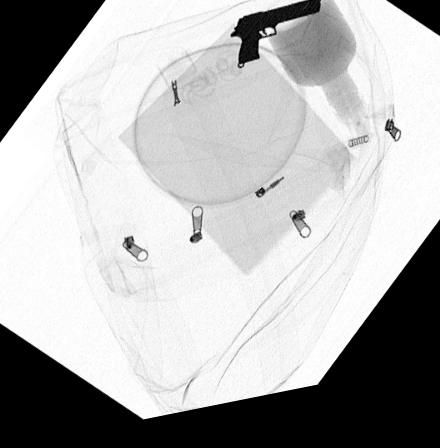Gun: (229, 8, 319, 73)
